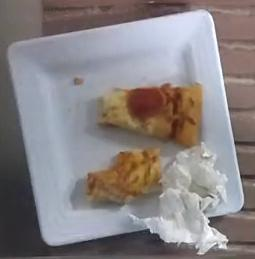pizza: (99, 83, 202, 146)
pizza_crust: (87, 149, 161, 205)
